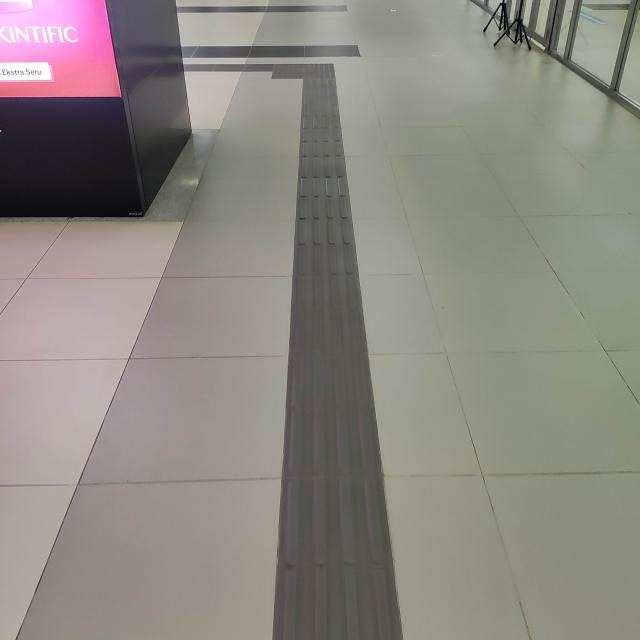kiri: (251, 48, 347, 94)
